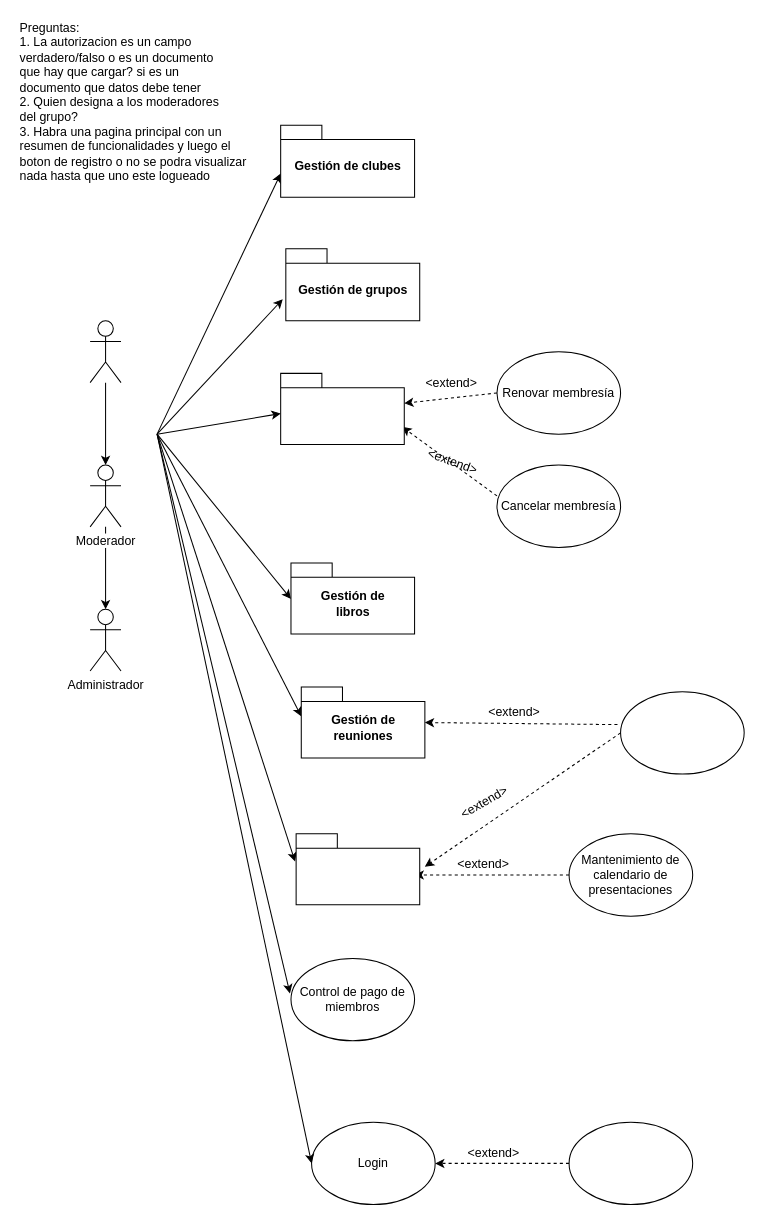
Some shapes in this 762 by 1223 pixel diagram are drawn without their labels. Here are the shapes that lost their labels. From the top down, the box of each, then its label:
(89, 320, 121, 383): Usuario
(280, 372, 404, 444): Gestión de membresía
(620, 691, 744, 774): Cierre de discusión
(295, 833, 420, 905): Gestión de obras actuadas
(568, 1121, 693, 1205): Registro
